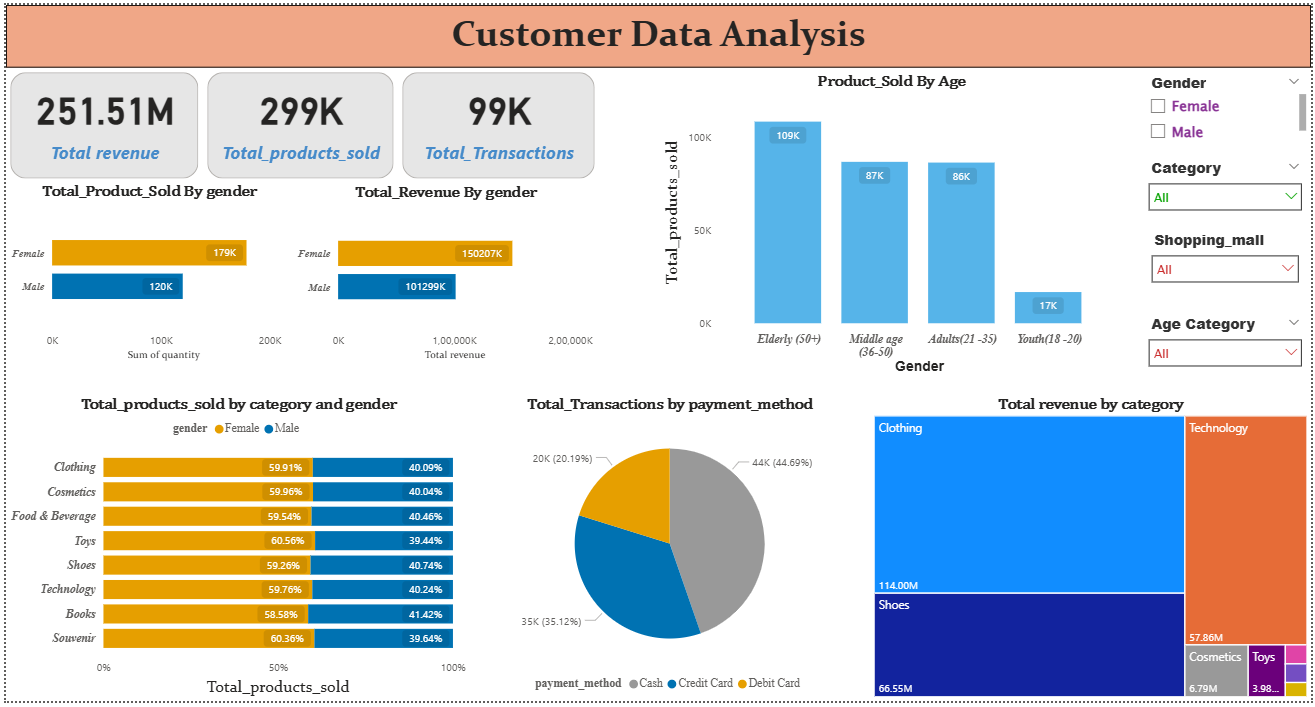

The dashboard page shown, as its layout file describes it:
{"tool":"powerbi","page":{"name":"Page 1","canvas":[1500,800],"ordinal":6},"visuals":[{"type":"textbox","box":[0,0,1500,72],"z":0},{"type":"cardVisual","fields":{"Data":["db.Total revenue"]},"box":[0,72.3,226.5,132.5],"z":1000},{"type":"cardVisual","fields":{"Data":["db.Total_products_sold"]},"box":[226.5,72.3,224.1,132.5],"z":2000},{"type":"cardVisual","fields":{"Data":["db.Total_Transactions"]},"box":[450.6,72.3,231.3,132.5],"z":3000},{"type":"clusteredBarChart","title":"Total_Product_Sold By gender","fields":{"Category":["db.gender"],"Y":["Sum(db.quantity)"]},"box":[0,203.6,328.9,210.8],"z":4000},{"type":"barChart","title":"Total_Revenue By gender","fields":{"Category":["db.gender"],"Y":["db.Total revenue"]},"box":[328.9,204.8,353,209.6],"z":5000},{"type":"columnChart","title":"Product_Sold By Age","fields":{"Category":["db.Age Category"],"Y":["db.Total_products_sold"]},"box":[750.6,77.1,533.7,351.8],"z":6000},{"type":"treemap","fields":{"Group":["db.category"],"Values":["db.Total revenue"]},"box":[992.8,448.2,507.2,351.8],"z":7000},{"type":"pieChart","fields":{"Category":["db.payment_method"],"Y":["db.Total_Transactions"]},"box":[533.7,448.2,459,351.8],"z":8000},{"type":"slicer","fields":{"Values":["db.gender"]},"box":[1303.6,72.3,196.4,89.2],"z":9000},{"type":"slicer","fields":{"Values":["db.category"]},"box":[1303.6,169.9,196.4,83.1],"z":10000},{"type":"slicer","fields":{"Values":["db.shopping_mall"]},"box":[1307.2,253,189.2,96.4],"z":11000},{"type":"hundredPercentStackedBarChart","fields":{"Category":["db.category"],"Series":["db.gender"],"Y":["db.Total_products_sold"]},"box":[0,448.2,533.7,351.8],"z":12000},{"type":"slicer","fields":{"Values":["db.Age Category"]},"box":[1303.6,349.4,196.4,79.5],"z":13000}]}

Visuals, with their boxes in screenshot pixels (x1, y1, x2, y2), scaled from the page's 1500x800 canvas onto the 1315x707 screenshot:
textbox: [left=0, top=0, right=1314, bottom=64]
cardVisual - db.Total revenue: [left=0, top=64, right=199, bottom=181]
cardVisual - db.Total_products_sold: [left=199, top=64, right=395, bottom=181]
cardVisual - db.Total_Transactions: [left=395, top=64, right=598, bottom=181]
"Total_Product_Sold By gender" clusteredBarChart: [left=0, top=180, right=288, bottom=366]
"Total_Revenue By gender" barChart: [left=288, top=181, right=598, bottom=366]
"Product_Sold By Age" columnChart: [left=658, top=68, right=1126, bottom=379]
treemap - db.category x db.Total revenue: [left=870, top=396, right=1314, bottom=706]
pieChart - db.payment_method x db.Total_Transactions: [left=468, top=396, right=870, bottom=706]
slicer - db.gender: [left=1143, top=64, right=1314, bottom=143]
slicer - db.category: [left=1143, top=150, right=1314, bottom=224]
slicer - db.shopping_mall: [left=1146, top=224, right=1312, bottom=309]
hundredPercentStackedBarChart - db.category x db.gender: [left=0, top=396, right=468, bottom=706]
slicer - db.Age Category: [left=1143, top=309, right=1314, bottom=379]
